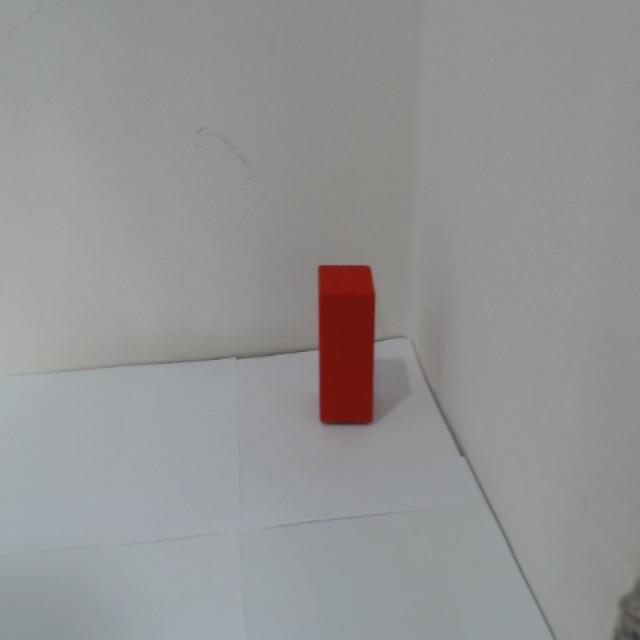cube: (317, 263, 376, 425)
